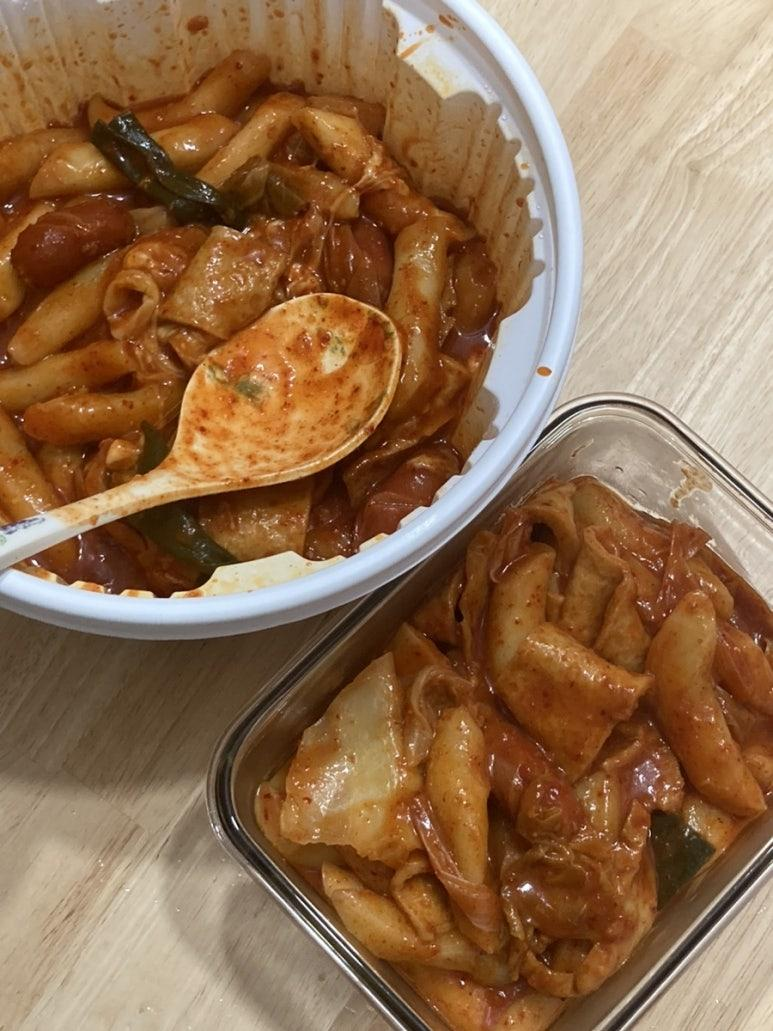Lunch Box: (0, 0, 580, 638), (207, 397, 772, 1030)
